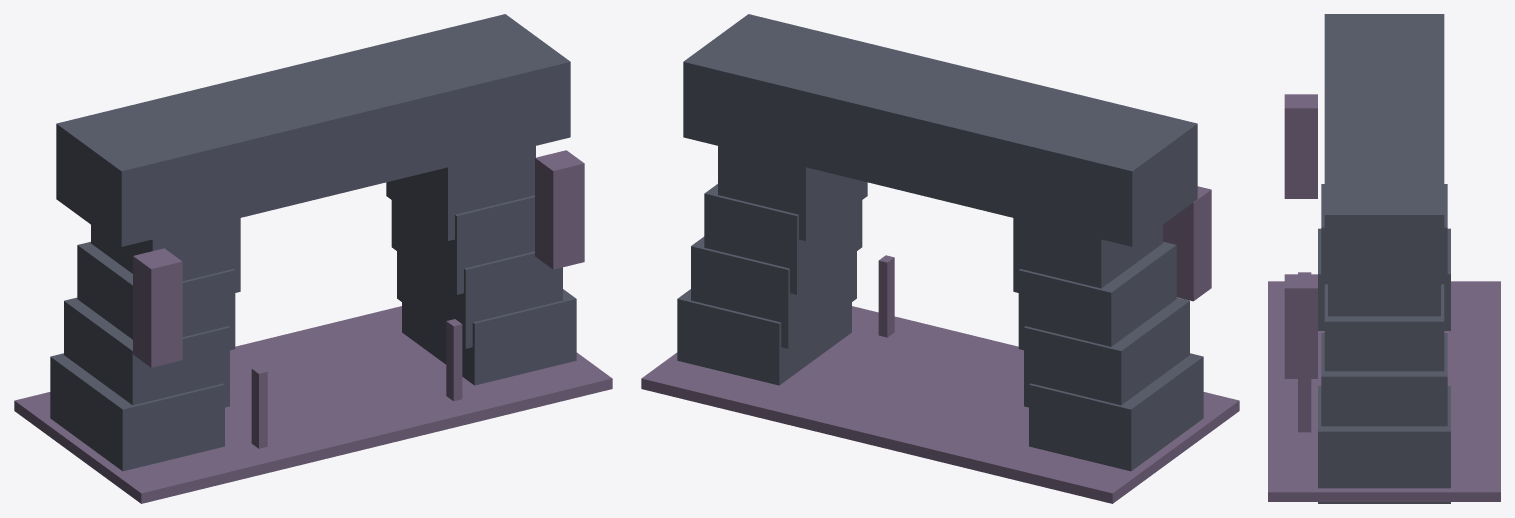
Rendered from abyss_gate.glb.
The picture shows the model from 3 angles, left to right: view 1: azimuth 30°, elevation 25°; view 2: azimuth 150°, elevation 25°; view 3: azimuth 270°, elevation 25°; orthographic projection. The views are drawn at different scales.
Parts seen in each view (by area): view 1: abyss_gate_02_rock_overhang, abyss_gate_01_rock_pier, abyss_gate_00_approach, abyss_gate_03_crag, abyss_gate_04_glow_columns; view 2: abyss_gate_01_rock_pier, abyss_gate_02_rock_overhang, abyss_gate_00_approach, abyss_gate_03_crag, abyss_gate_04_glow_columns; view 3: abyss_gate_02_rock_overhang, abyss_gate_01_rock_pier, abyss_gate_00_approach, abyss_gate_03_crag, abyss_gate_04_glow_columns.
Boxes of the visible parts, x1,y1,x2,y2 form: abyss_gate_02_rock_overhang: [56, 14, 570, 246]; abyss_gate_01_rock_pier: [50, 146, 576, 471]; abyss_gate_00_approach: [14, 306, 612, 503]; abyss_gate_03_crag: [133, 150, 584, 367]; abyss_gate_04_glow_columns: [251, 319, 462, 448]; abyss_gate_01_rock_pier: [677, 146, 1203, 471]; abyss_gate_02_rock_overhang: [683, 14, 1197, 246]; abyss_gate_00_approach: [641, 306, 1239, 503]; abyss_gate_03_crag: [1163, 186, 1211, 301]; abyss_gate_04_glow_columns: [878, 255, 894, 337]; abyss_gate_02_rock_overhang: [1324, 14, 1444, 284]; abyss_gate_01_rock_pier: [1318, 184, 1450, 503]; abyss_gate_00_approach: [1268, 281, 1500, 501]; abyss_gate_03_crag: [1284, 94, 1317, 378]; abyss_gate_04_glow_columns: [1298, 272, 1311, 432].
Size of the model in its own units: 15 by 9.55 by 7.
